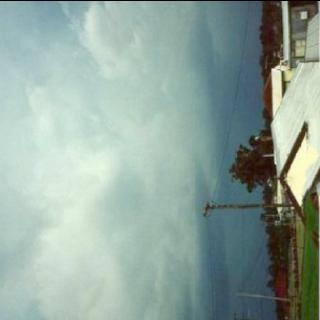Stratocumulus: (0, 0, 223, 320)
